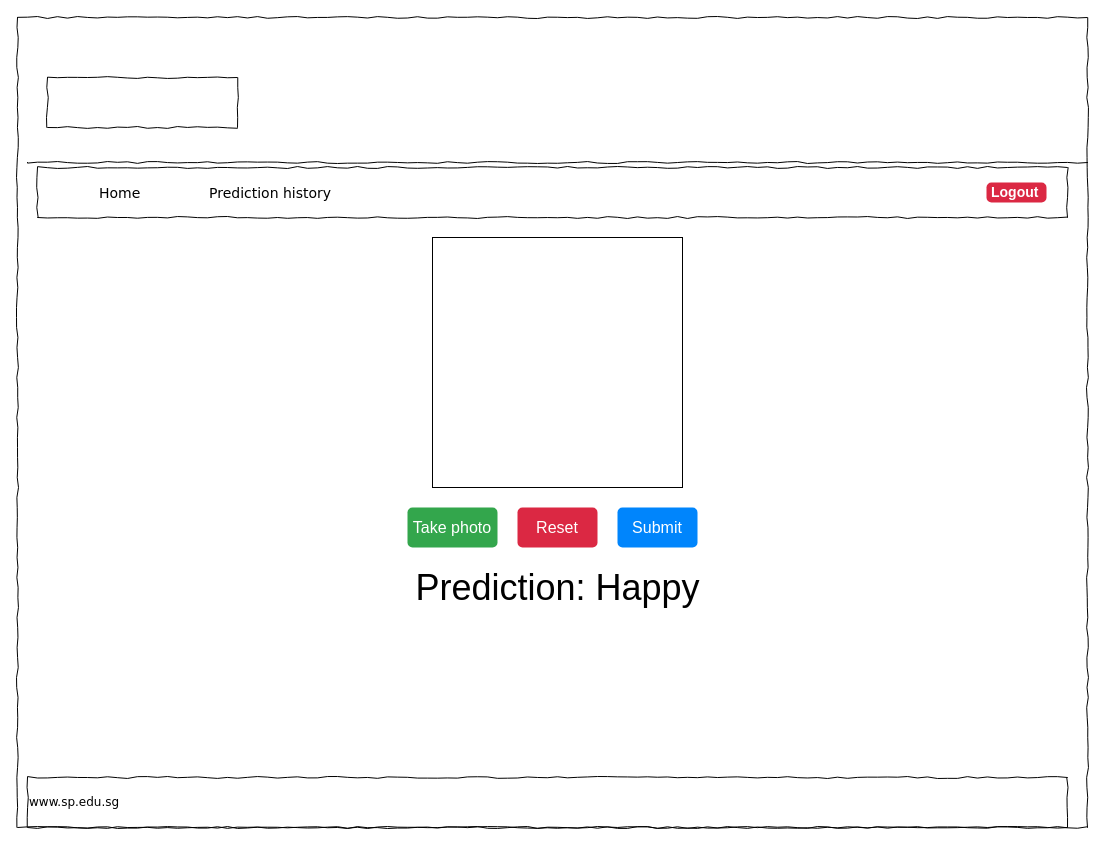
This 1105x845 diagram has some shape labels left out. The centre of each missing label's shape, as x and y in pixels:
"Image" goes at (x=557, y=362).
"LOGO" goes at (x=142, y=102).
